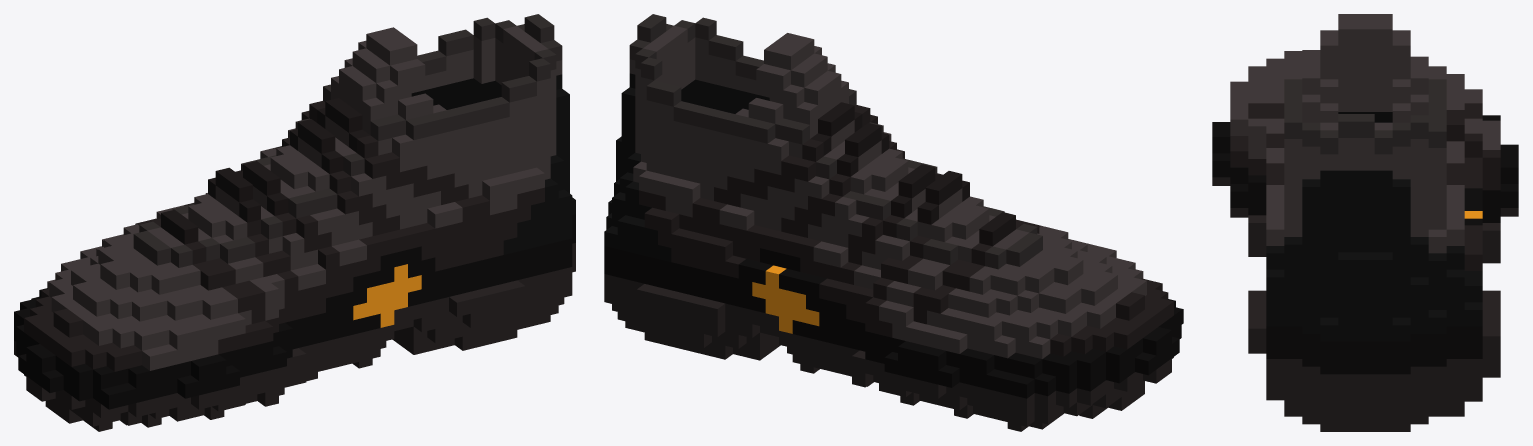
File: Golden Iron.fbx
The picture shows the model from 3 angles, left to right: view 1: azimuth 30°, elevation 25°; view 2: azimuth 150°, elevation 25°; view 3: azimuth 270°, elevation 25°; orthographic projection. The views are drawn at different scales.
Visible parts, largest first — view 1: Untitled; view 2: Untitled; view 3: Untitled.
Boxes of the visible parts, x1,y1,x2,y2 form: Untitled: (14,14,575,431); Untitled: (604,14,1183,431); Untitled: (1212,14,1518,431).
Size of the model in its own units: 390 by 200 by 170.
